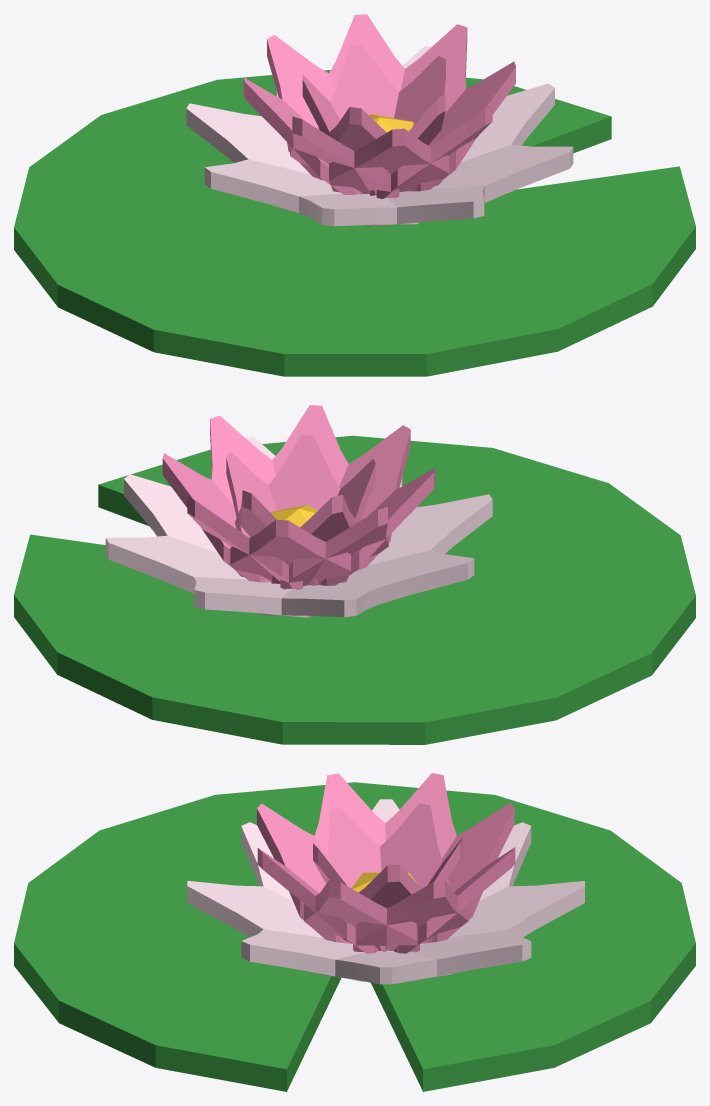
Rendered from Lotus.fbx.
The picture shows the model from 3 angles, top to bottom: view 1: azimuth 30°, elevation 25°; view 2: azimuth 150°, elevation 25°; view 3: azimuth 270°, elevation 25°; orthographic projection.
Visible parts, largest first — view 1: Lotus_Pad, Lotus_LotusPink, Lotus_LotusWhite; view 2: Lotus_Pad, Lotus_LotusPink, Lotus_LotusWhite, Lotus_Pollen; view 3: Lotus_Pad, Lotus_LotusPink, Lotus_LotusWhite.
Boxes of the visible parts, x1,y1,x2,y2 form: Lotus_Pad: (14, 70, 695, 376); Lotus_LotusPink: (243, 14, 515, 198); Lotus_LotusWhite: (186, 46, 573, 226); Lotus_Pad: (14, 435, 695, 744); Lotus_LotusPink: (162, 405, 435, 589); Lotus_LotusWhite: (105, 437, 492, 617); Lotus_Pollen: (270, 505, 317, 527); Lotus_Pad: (14, 782, 695, 1091); Lotus_LotusPink: (257, 773, 515, 953); Lotus_LotusWhite: (187, 799, 584, 984).
Bounding box in the file's own units: 218 × 50.25 × 219.
